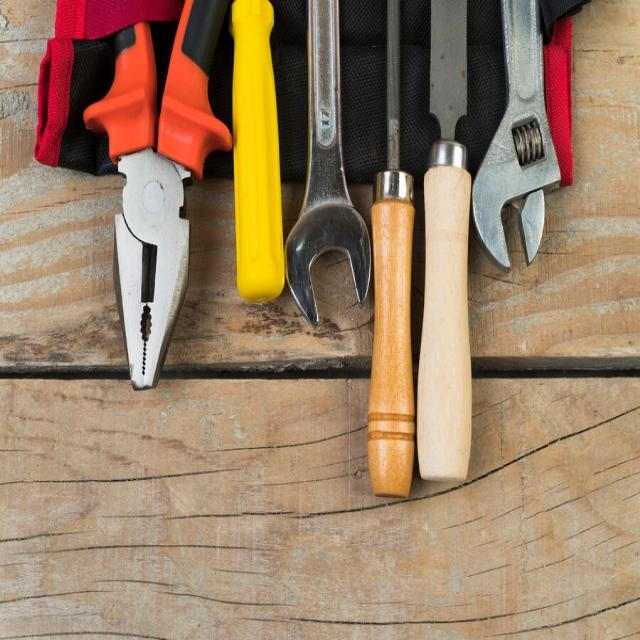Screwdriver: (230, 0, 285, 301)
